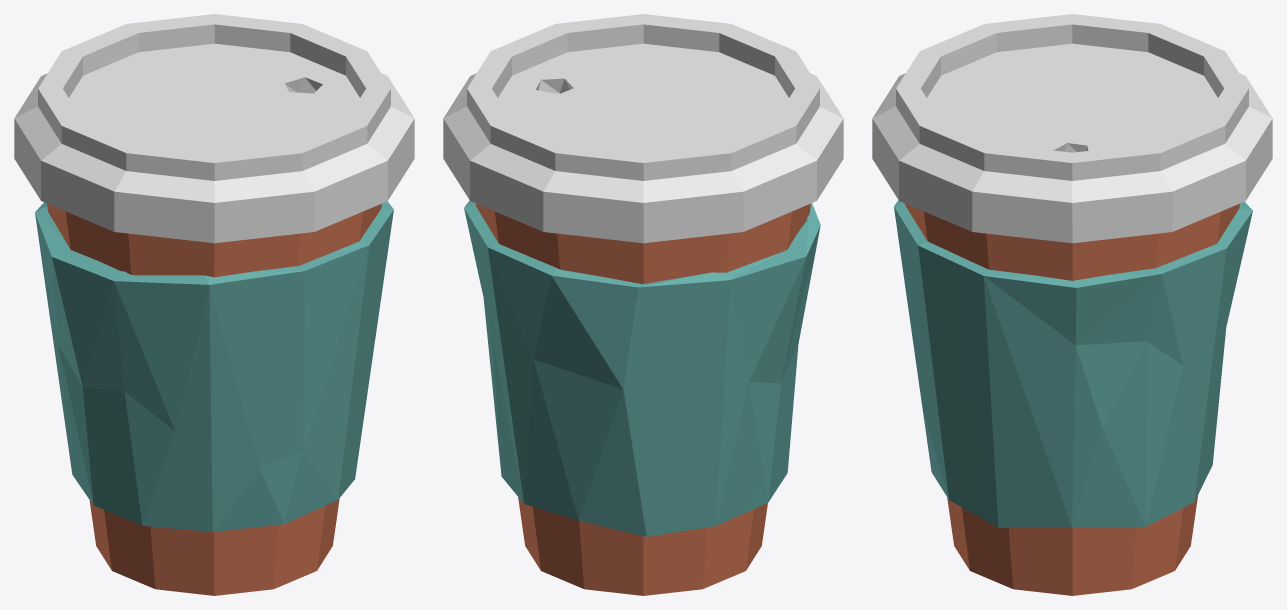
The model's file is Cup_01.fbx.
The picture shows the model from 3 angles, left to right: view 1: azimuth 30°, elevation 25°; view 2: azimuth 150°, elevation 25°; view 3: azimuth 270°, elevation 25°; orthographic projection.
Parts seen in each view (by area): view 1: Cup_01; view 2: Cup_01; view 3: Cup_01.
Boxes of the visible parts, box(x1,y1,x2,y2) form: Cup_01: box(14, 14, 414, 595); Cup_01: box(443, 14, 843, 595); Cup_01: box(872, 14, 1272, 595).
Bounding box in the file's own units: 12.66 × 15.96 × 12.66.
